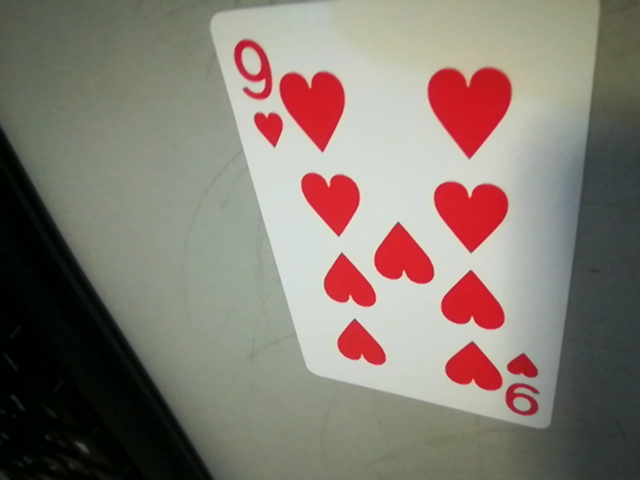hx 9: (219, 27, 282, 153), (497, 350, 556, 423)
